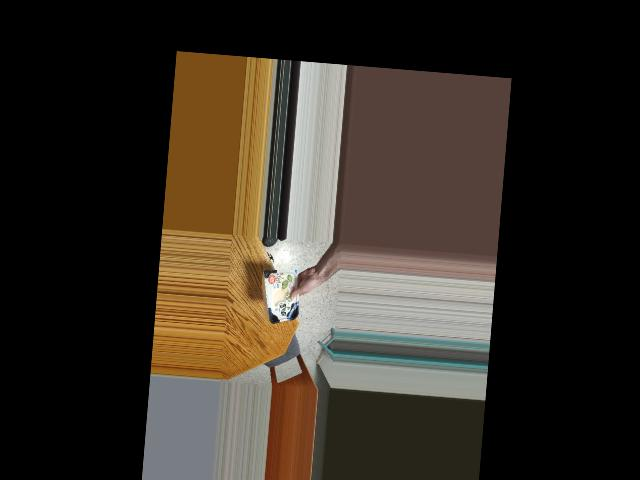cheese: (260, 276, 306, 319)
